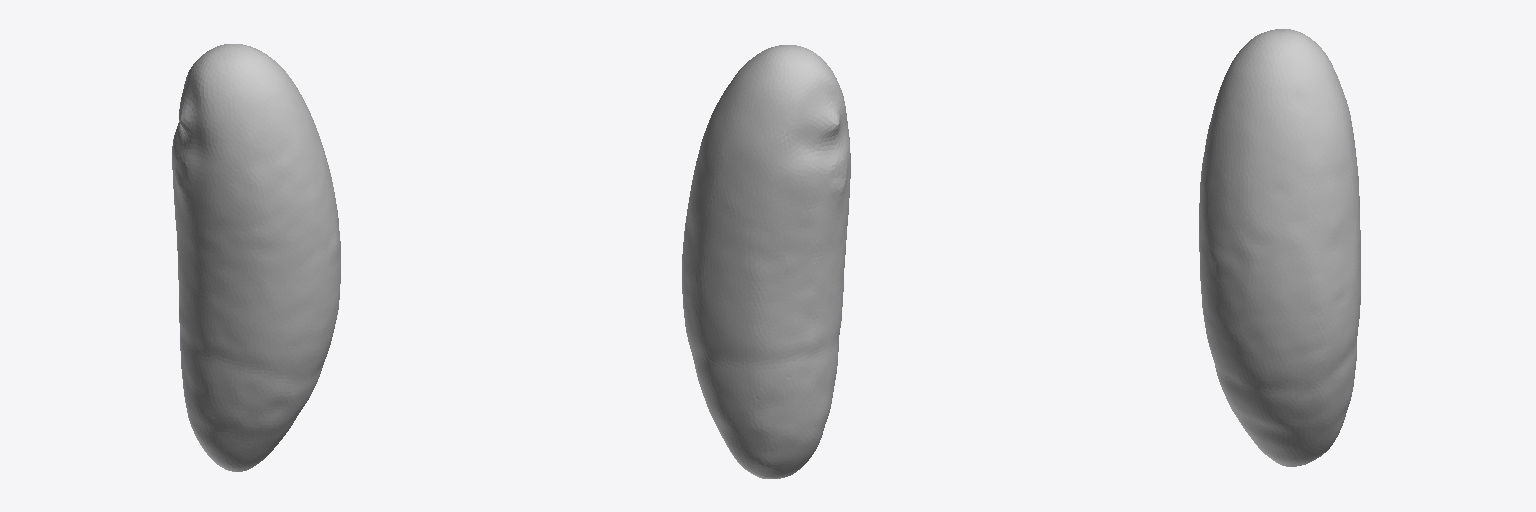
Rendered from Drosophila_CAAX-mCherry_mesh_uv_resaved.obj.
3 views of the same model, side by side, from view 1: azimuth 30°, elevation 25°; view 2: azimuth 150°, elevation 25°; view 3: azimuth 270°, elevation 25° (orthographic).
Bounding box in the file's own units: 190 × 519 × 179.